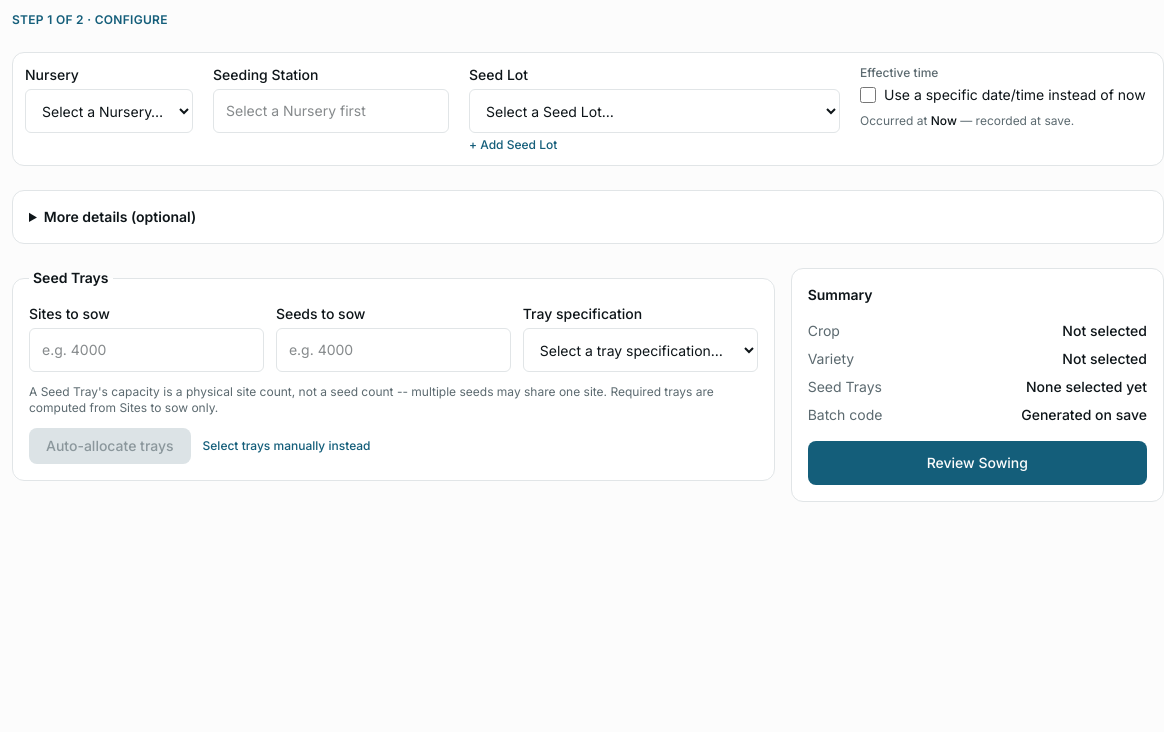
Test case: SowingForm › prevents submitting a sown site count above a manually-selected tray's known capacity
Select "NUR-01" in the dropdown labelled "Nursery" at (109, 111), box x1=25 y1=89 x2=193 y2=133
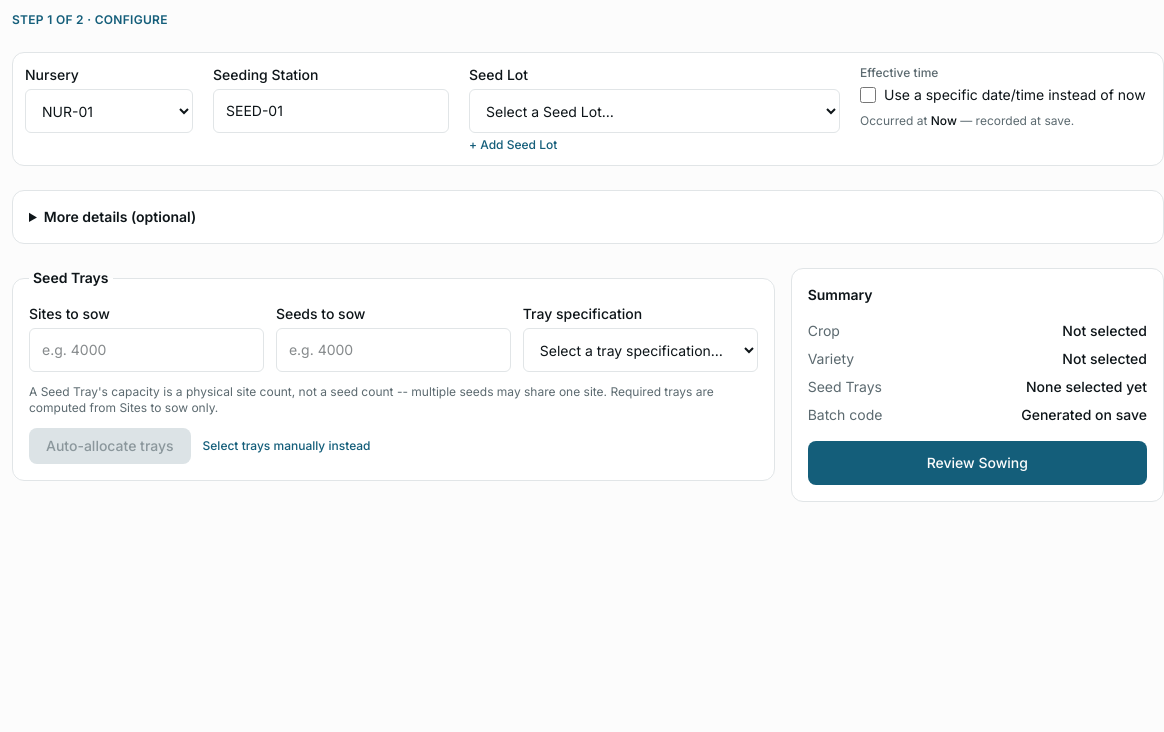
Check: the field showing "SEED-01" is shown, box x1=213 y1=89 x2=449 y2=133
Select "RZ-MAM-2026-001 — Iceberg Lettuce / Mamutik" in the dropdown labelled "Seed Lot" at (654, 111), box x1=469 y1=89 x2=840 y2=133
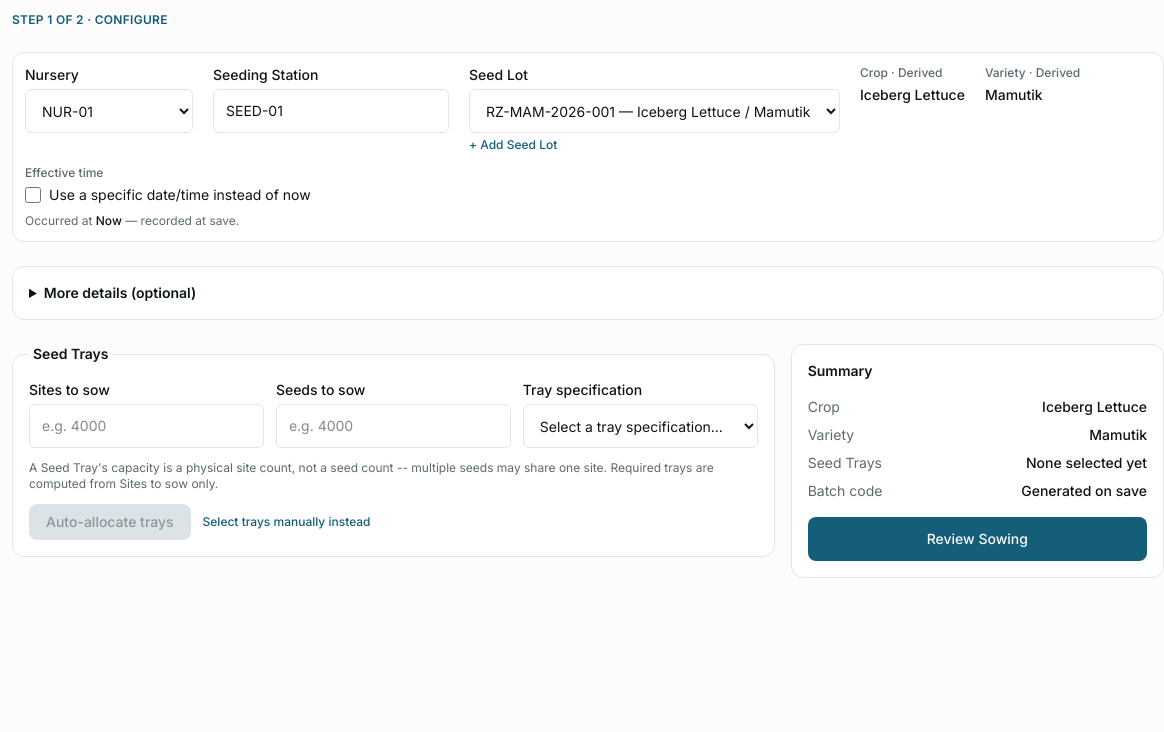
Click the button "Select trays manually instead" at (287, 522), box x1=203 y1=514 x2=371 y2=530
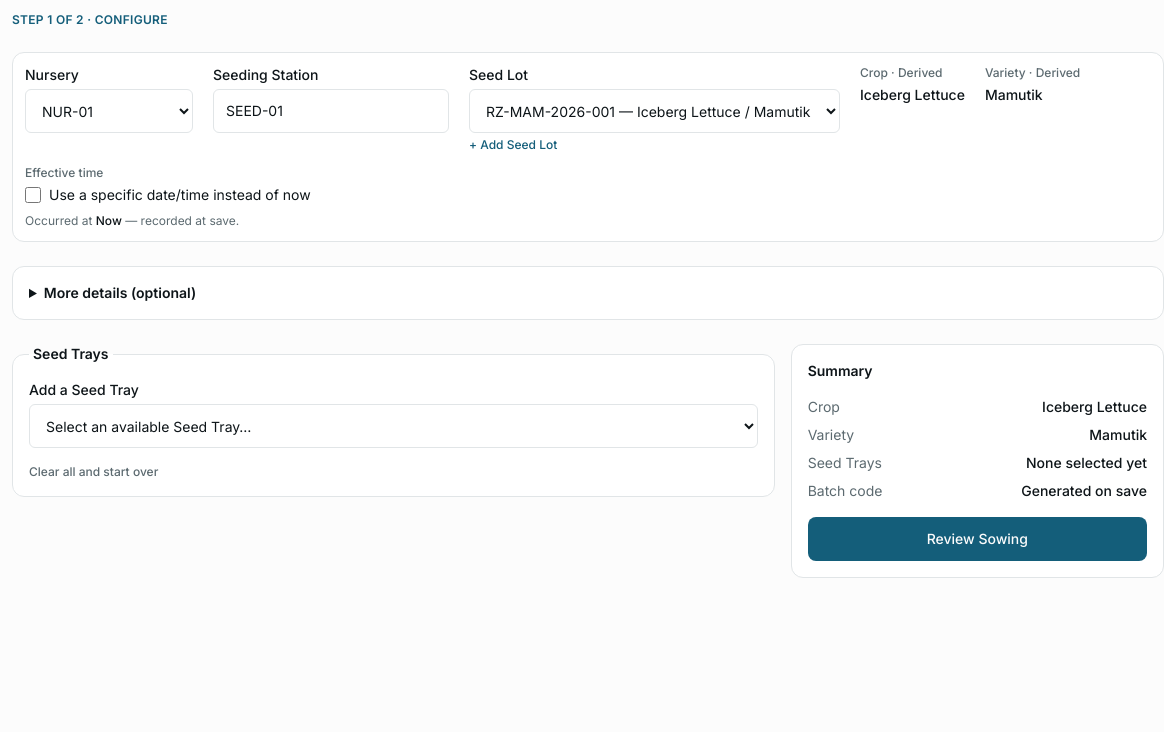
Select "ST-0001" in the dropdown labelled "Add a Seed Tray" at (393, 426), box x1=29 y1=404 x2=758 y2=448
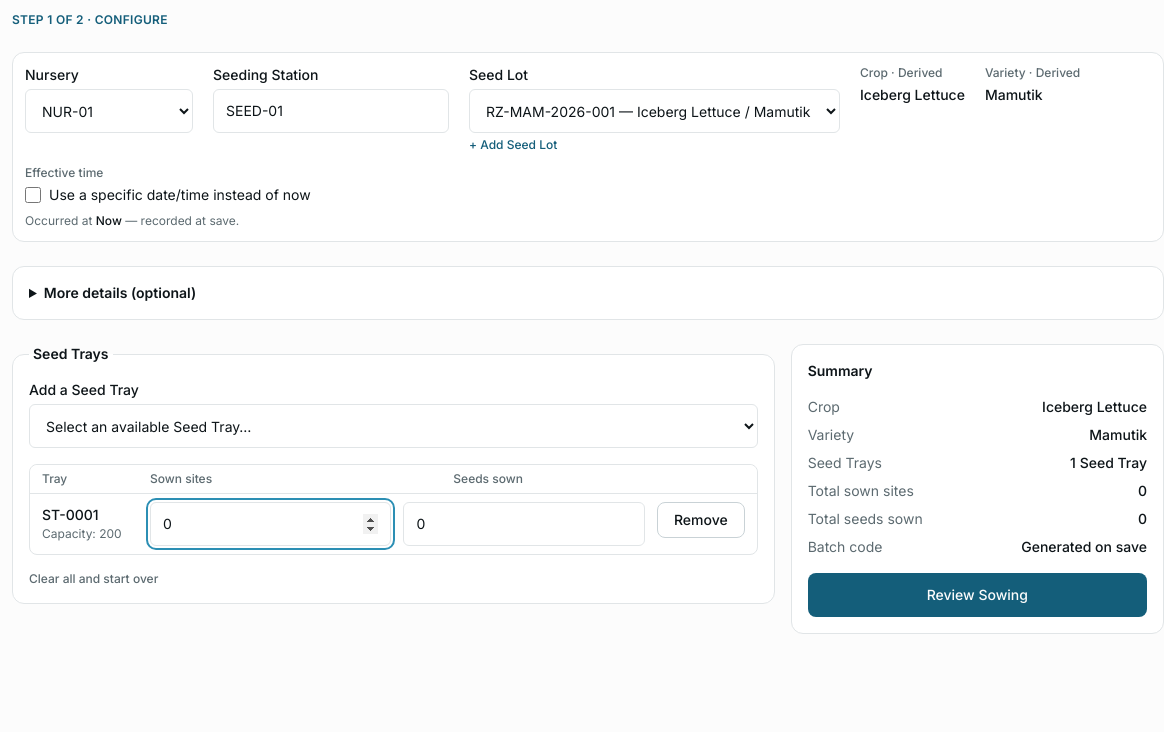
Check: the text "ST-0001" is shown, box x1=42 y1=506 x2=99 y2=523
Replace the text in the number field named "sown sites for st-0001" with "201" at (271, 524), box x1=150 y1=502 x2=392 y2=546
Replace the text in the number field named "seeds sown for st-0001" with "201" at (524, 524), box x1=404 y1=502 x2=645 y2=546
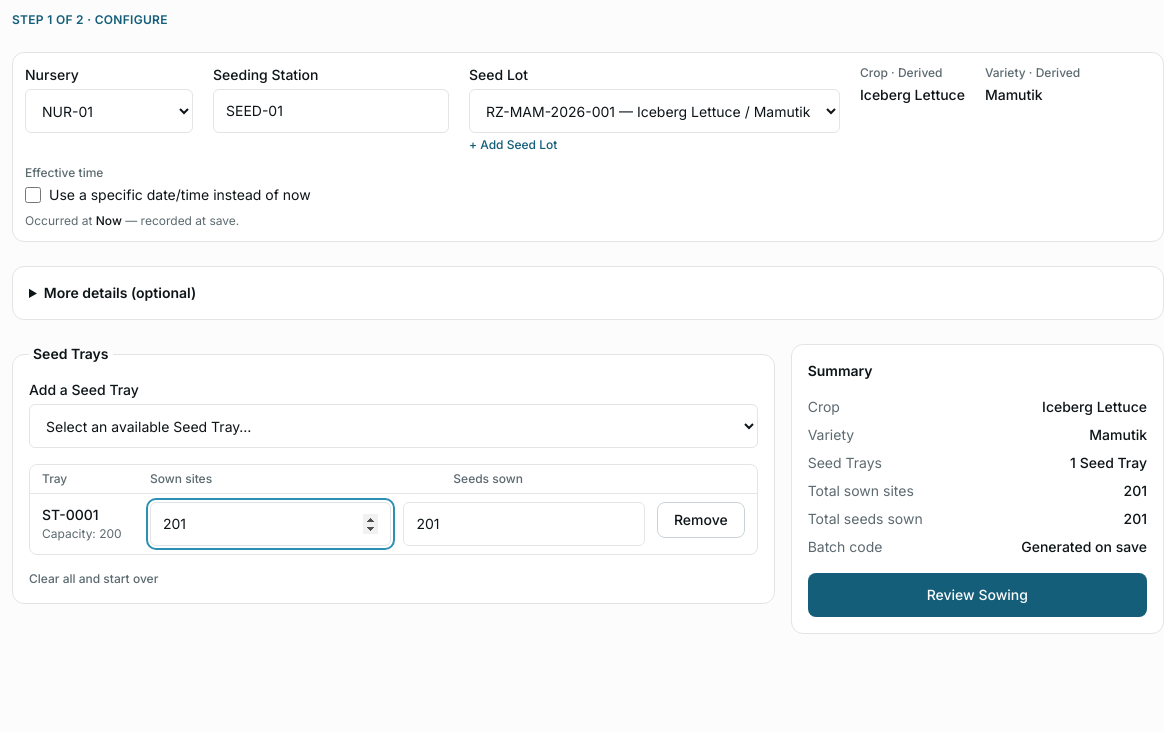
Click the button "Review Sowing" at (977, 595), box x1=808 y1=573 x2=1147 y2=617
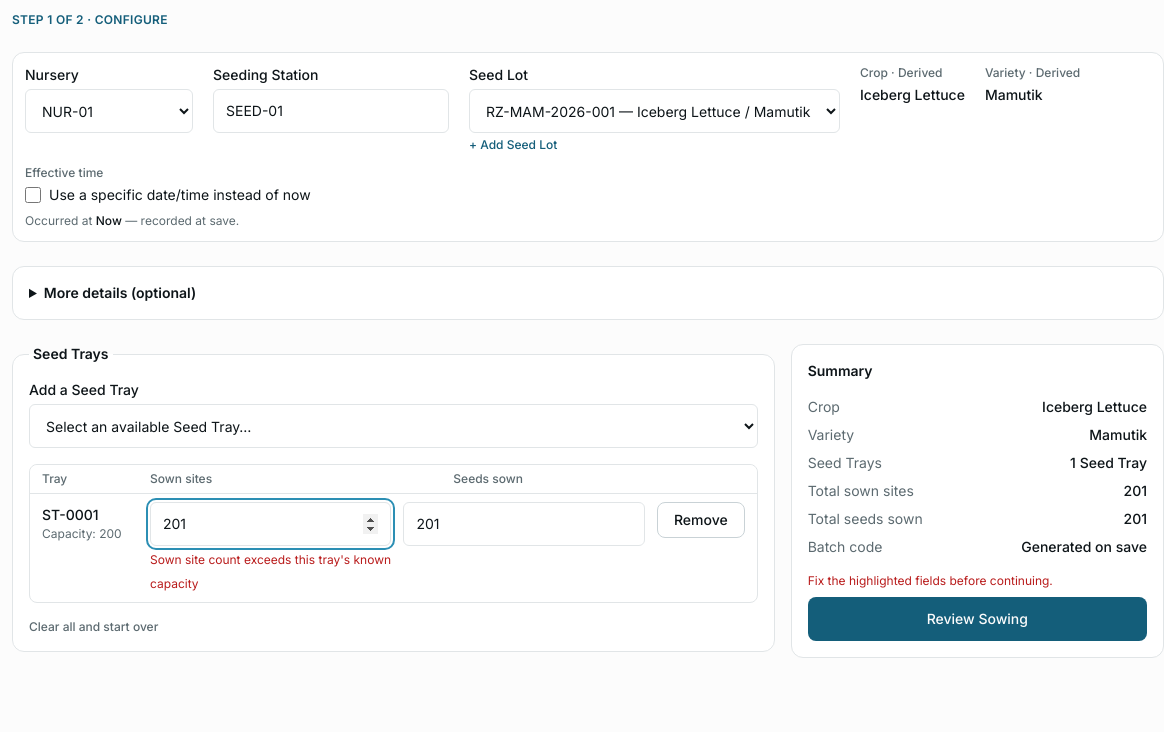
Check: the text "Sown site count exceeds this tray's known capacity" is shown, box x1=150 y1=552 x2=391 y2=591
